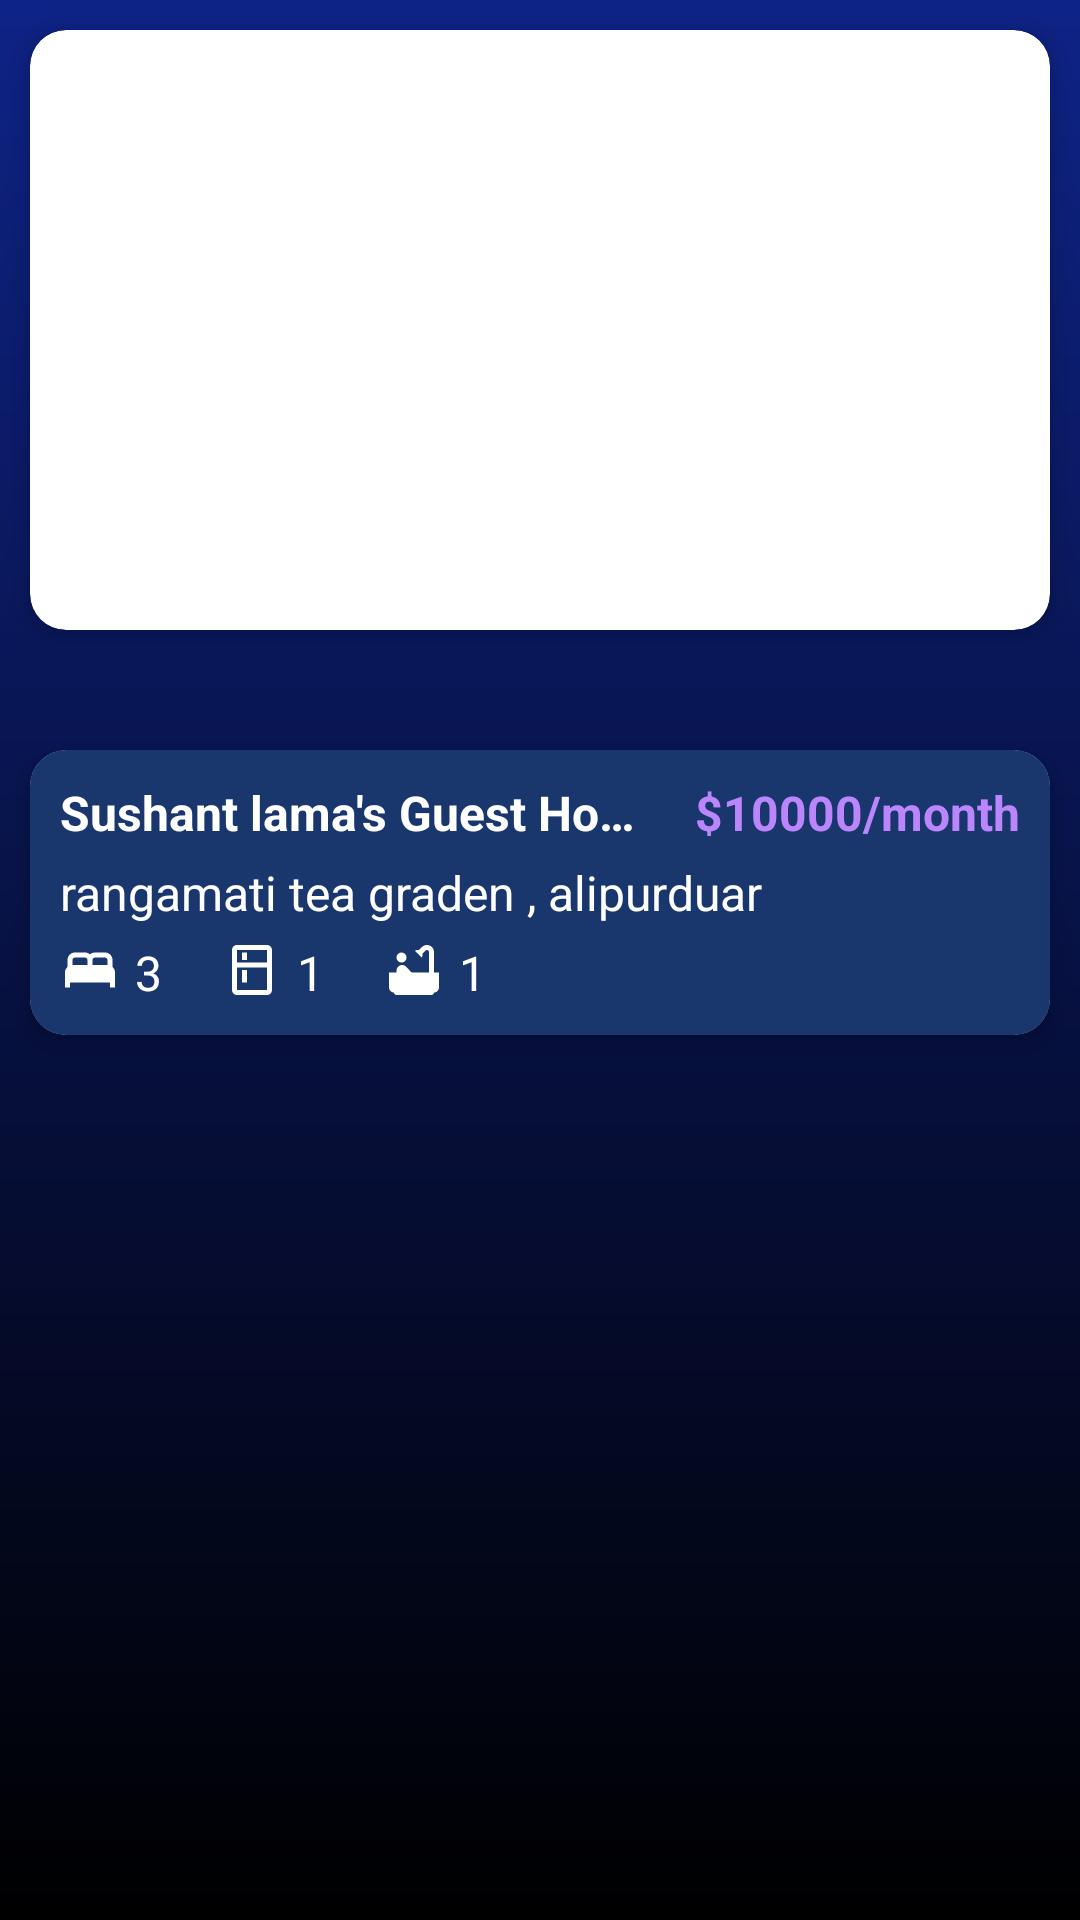

Where to tap for icons on this 1080x1920 app screen, as (x=x, y=y):
bathtub: (x=414, y=970)
bed: (x=90, y=970)
kitchen: (x=252, y=970)
